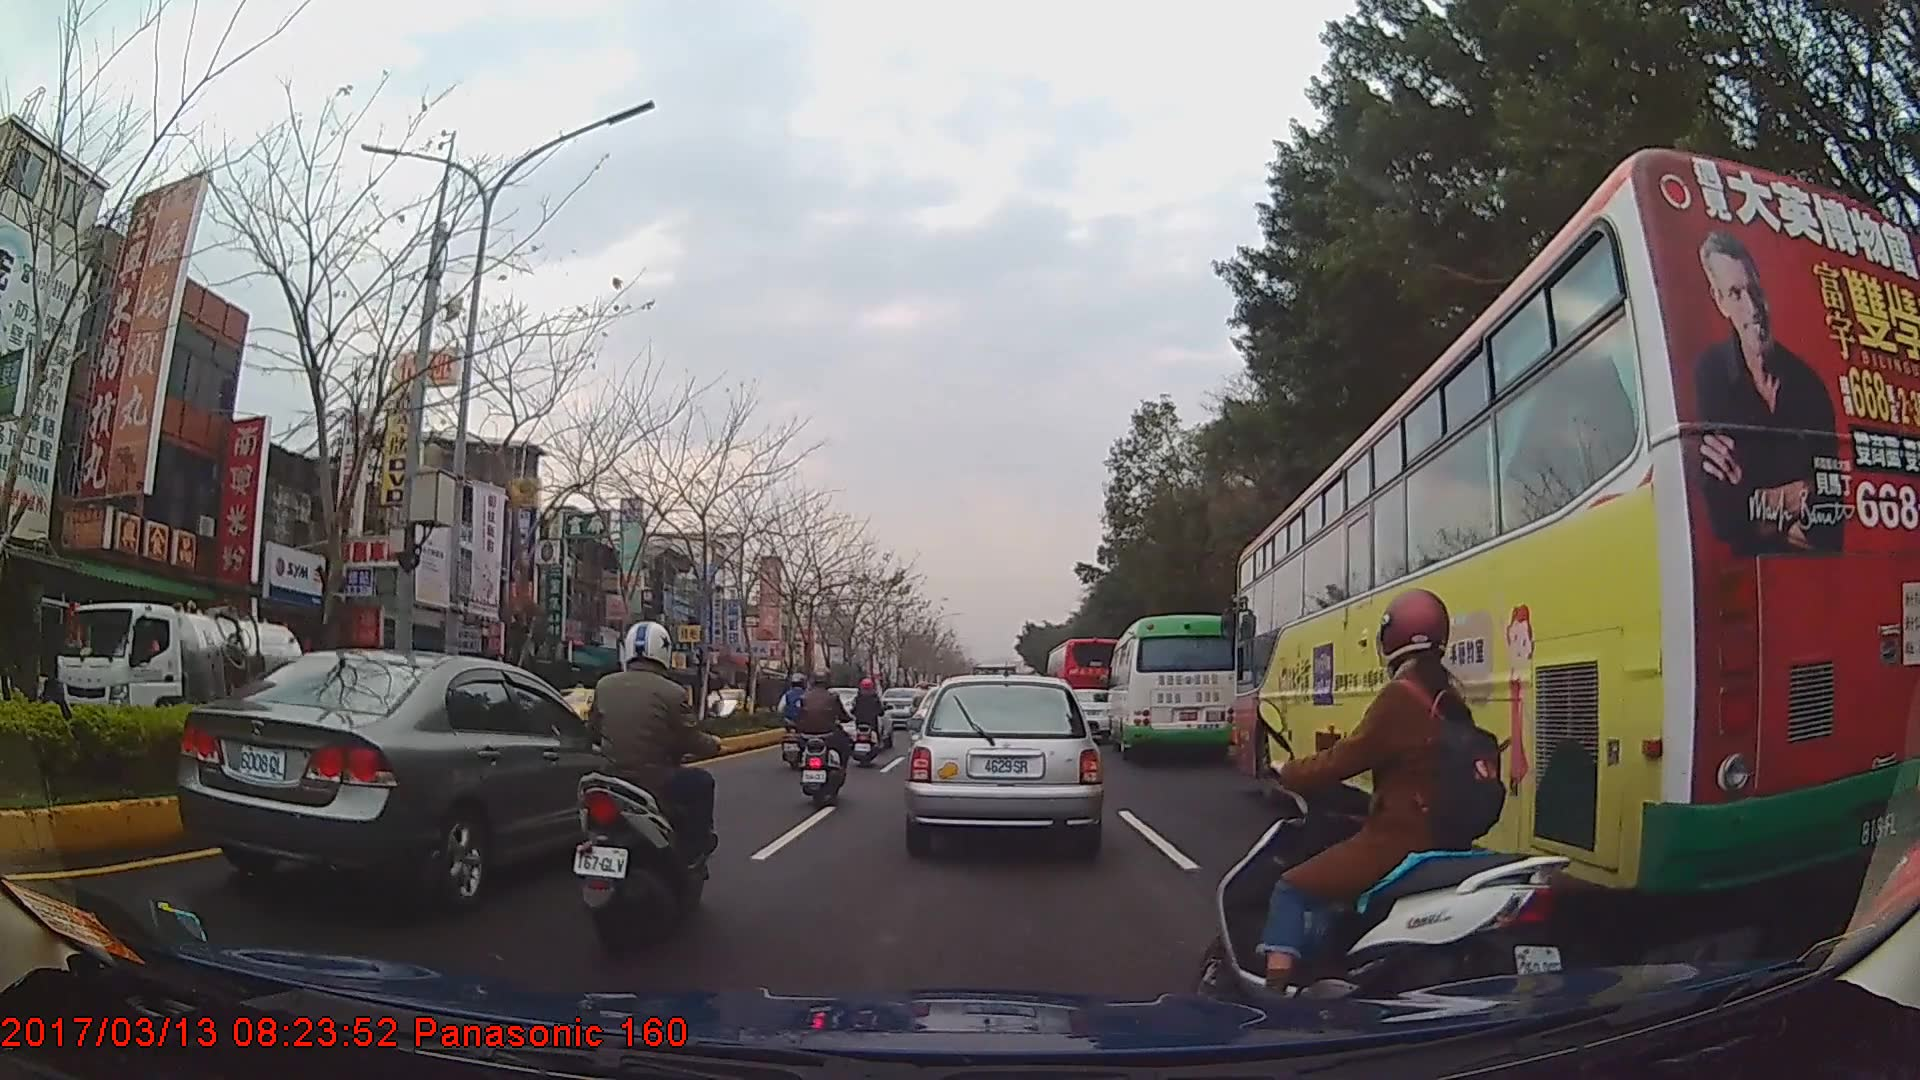rider: (1213, 590, 1566, 1037), (580, 620, 732, 945), (798, 667, 846, 807), (847, 676, 884, 771), (774, 671, 818, 752)
vehicle: (1231, 145, 1916, 910), (176, 650, 635, 909), (56, 601, 304, 761), (905, 670, 1101, 855), (1105, 613, 1238, 762), (1042, 635, 1124, 733), (691, 683, 752, 726)
